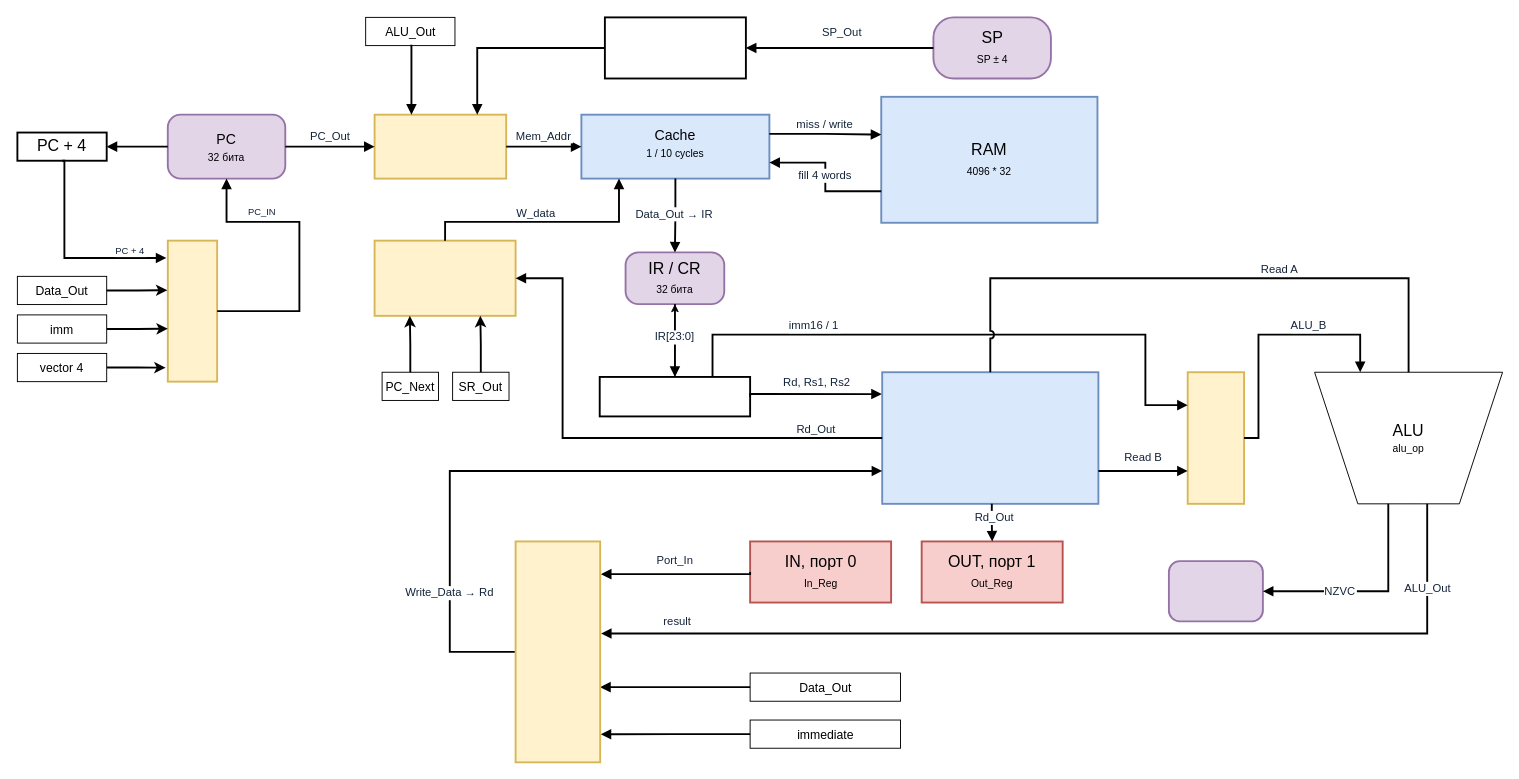
Image size: 1519x779. Some labels were removed from this diagram. Each missing label, with the box of its shape:
Address MUX addr_sel: (373, 113, 507, 179)
ALU B MUX alu_src_sel: (1186, 371, 1245, 504)
PC MUX sel_pc: (166, 239, 218, 382)
Register File 16 * 32 A: Rs1/Rd B: Rs2/Rs1 Wr: Rd (reg_write) read_b_sel: (881, 371, 1099, 504)
SR sr_write: (1167, 560, 1263, 622)
Stack Address SP + {0,4,8}: (603, 16, 746, 79)
Write Data MUX mem_data_sel: (373, 239, 516, 316)
Writeback MUX reg_data_sel: (514, 540, 601, 763)
Поля IR Rd, Rs1, Rs2, imm: (598, 376, 751, 417)
